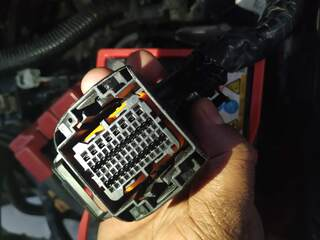connector: (53, 65, 208, 222)
